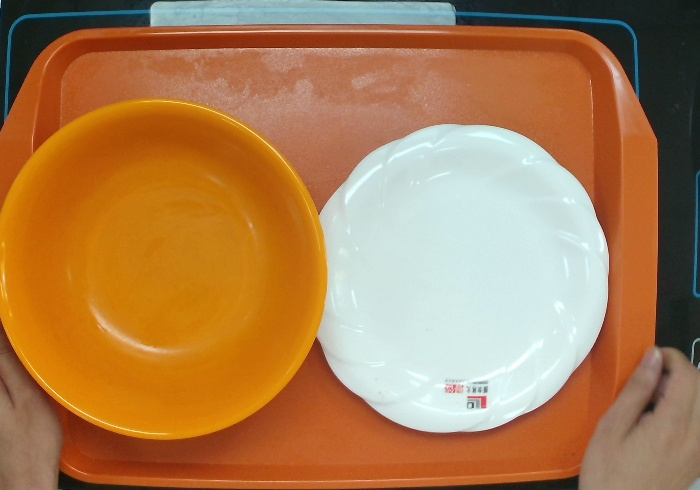ZNLD-Hua_Bian_Wan: (315, 122, 610, 434)
ZNLD-Ju_Se_Tang_Wan: (2, 96, 328, 441)
